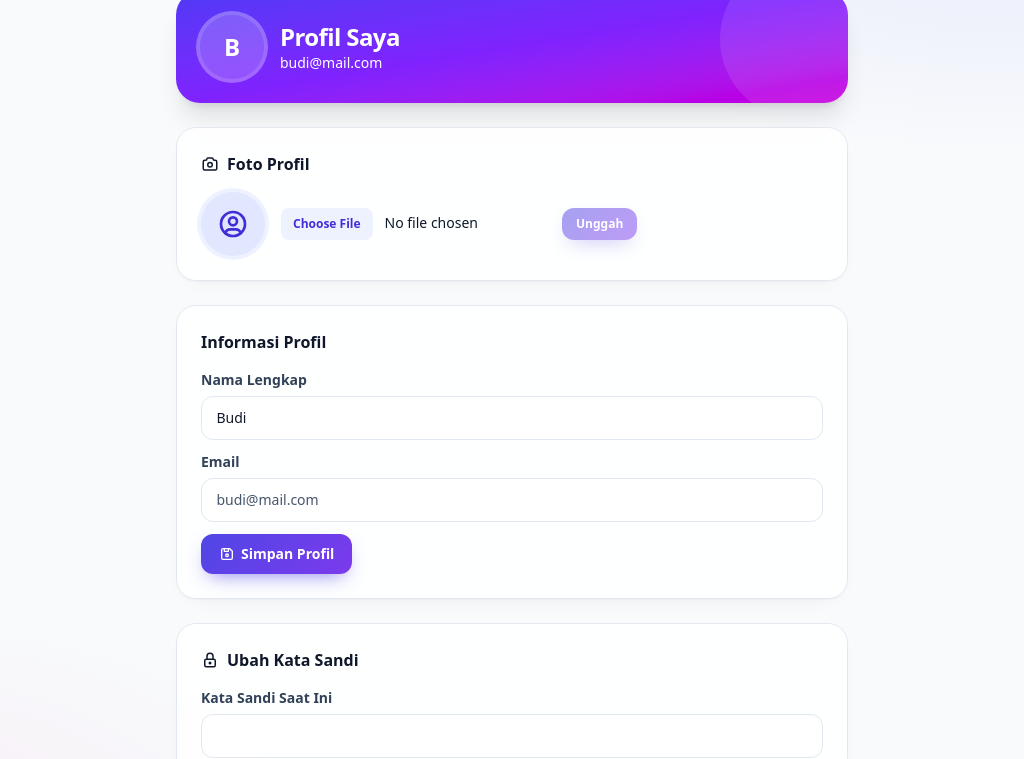
Test: ProfilePage › menampilkan peringatan dan menonaktifkan tombol saat konfirmasi kata sandi tidak sama
In the password field labelled "Kata Sandi Saat Ini": (512,736) [201,714,823,758], type "lama123"
(page scrolled)
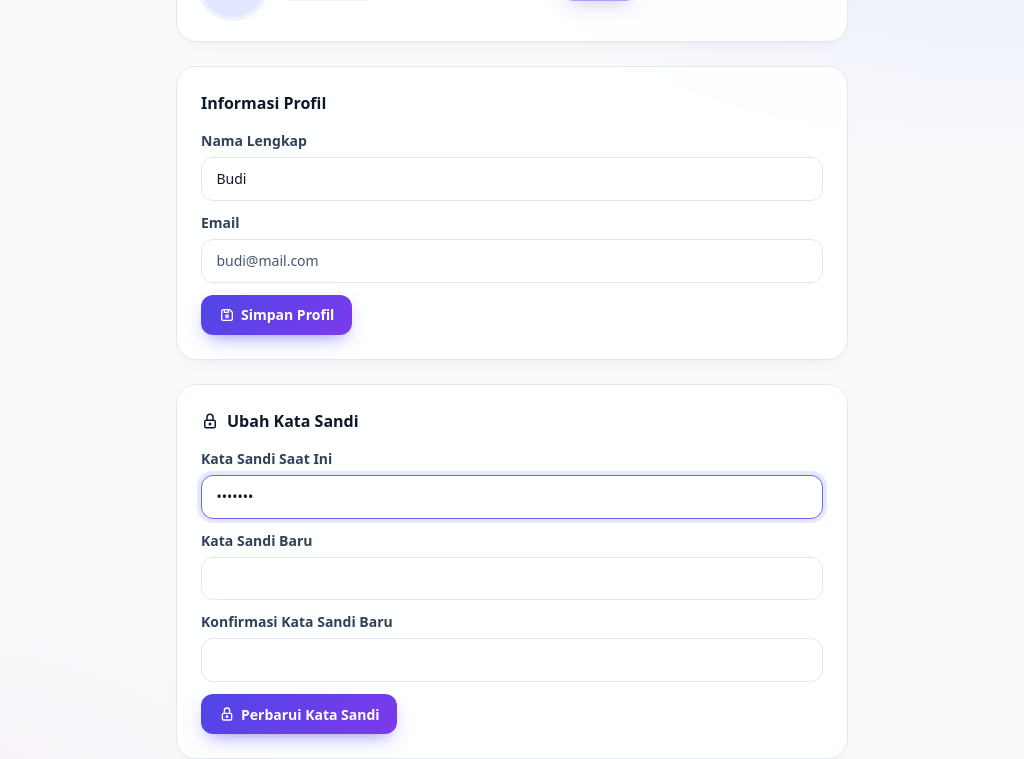
In the password field labelled "Kata Sandi Baru": (512,578) [201,556,823,600], type "baru123"
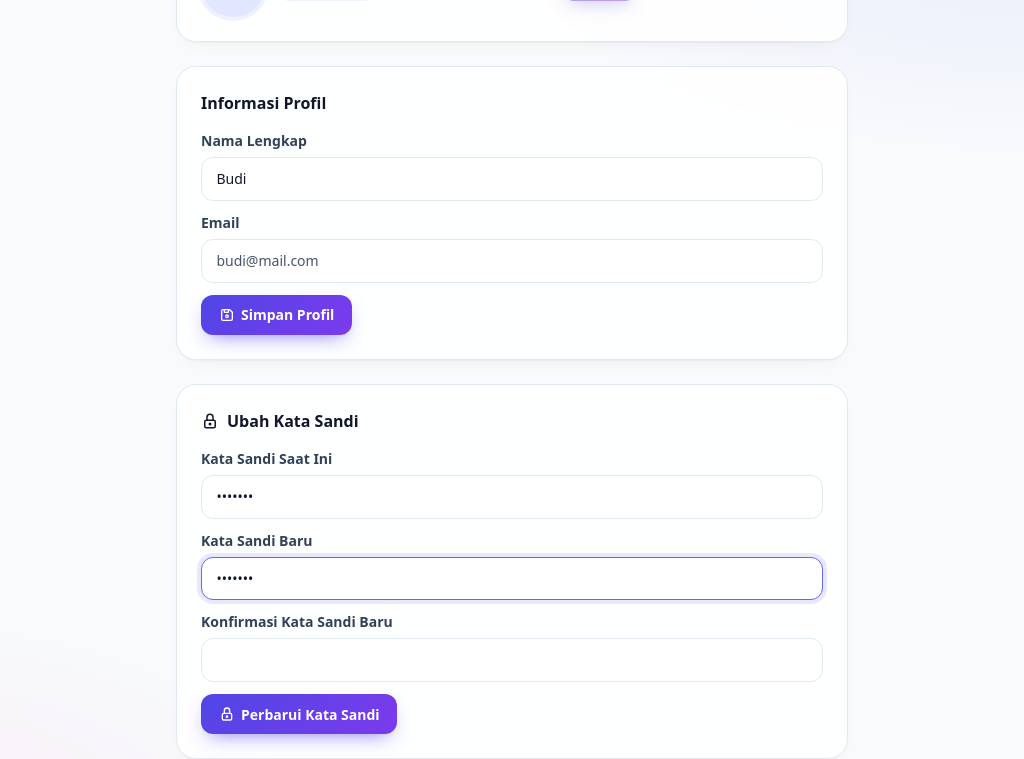
In the password field labelled "Konfirmasi Kata Sandi Baru": (512,660) [201,638,823,682], type "beda123"
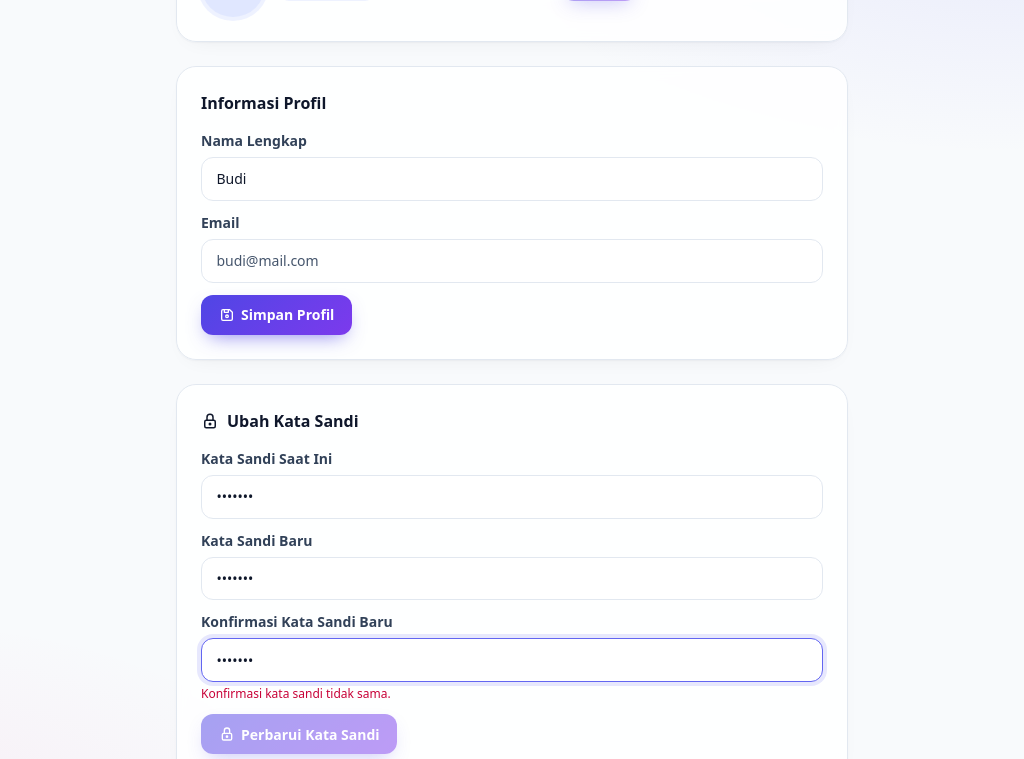
Check: the text "Konfirmasi kata sandi tidak sama." is shown, box [201,685,391,702]
Check: the button "Perbarui Kata Sandi" is disabled, box [201,714,397,754]
